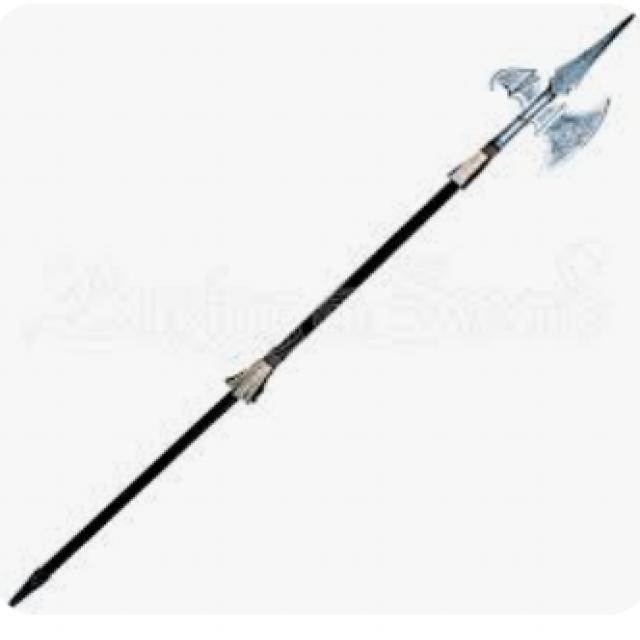spear: (14, 8, 635, 624)
